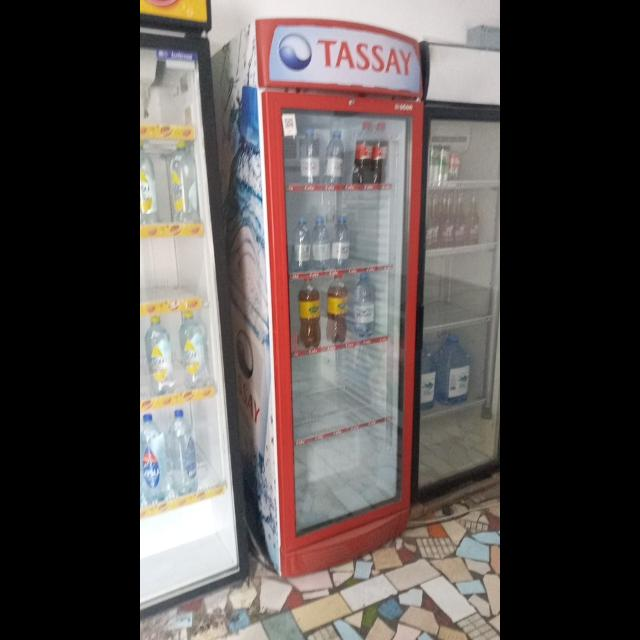Cooling-Display: (255, 18, 422, 576)
